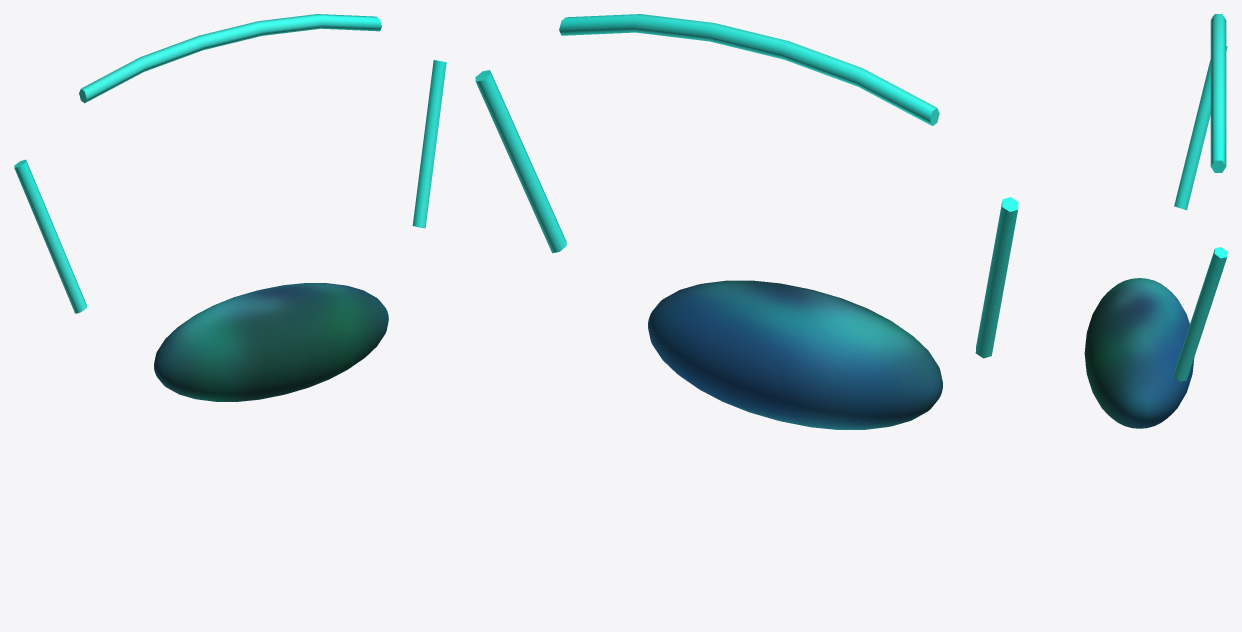
The model's file is insurance_screen.DAE.
3 renders of one model, left to right at view 1: azimuth 30°, elevation 25°; view 2: azimuth 150°, elevation 25°; view 3: azimuth 270°, elevation 25°, orthographic. The views are drawn at different scales.
Parts seen in each view (by area): view 1: Box002; view 2: Box002; view 3: Box002.
Part boxes in pixels (box(x1,y1,x2,y2)): Box002: box(14, 14, 446, 401); Box002: box(475, 14, 1018, 429); Box002: box(1084, 14, 1227, 428).
Size of the model in its own units: 1.66 by 1.88 by 0.5911.
